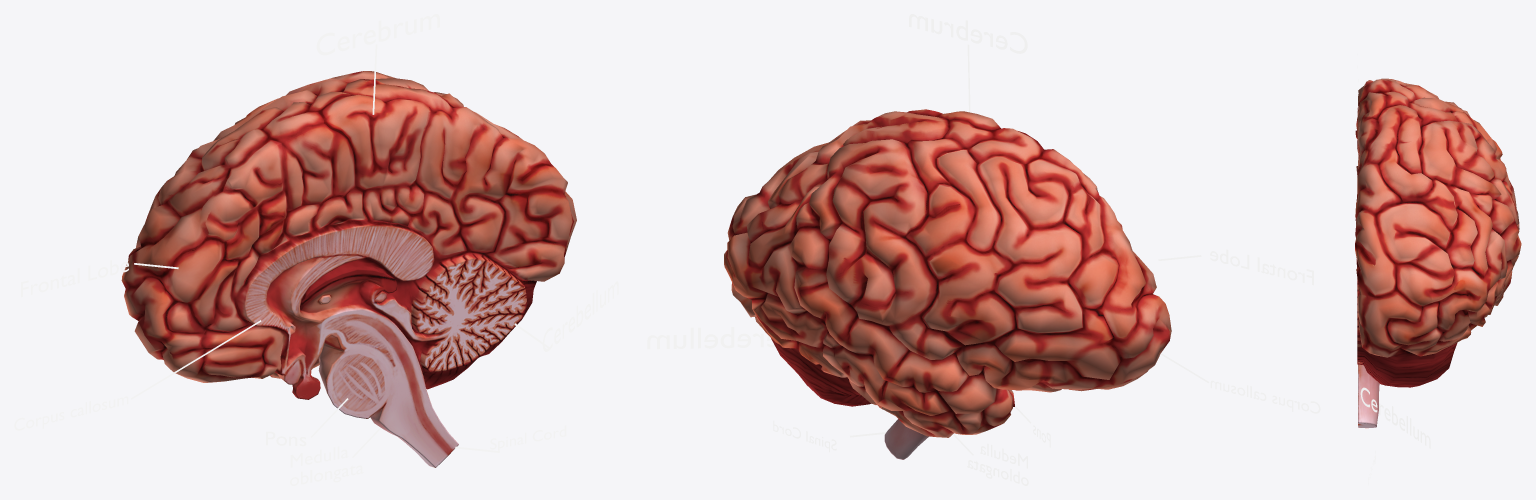
Rendered from brain_half_name.glb.
3 renders of one model, left to right at view 1: azimuth 30°, elevation 25°; view 2: azimuth 150°, elevation 25°; view 3: azimuth 270°, elevation 25°, orthographic. The views are drawn at different scales.
Parts seen in each view (by area): view 1: Brain.001, Text, Text.003, Text.001, Text.006; view 2: Brain.001, Text.001, Text; view 3: Brain.001, Text.001.
Boxes of the visible parts, bbox=[...] form: Brain.001: bbox=[121, 71, 576, 467]; Text: bbox=[316, 14, 439, 55]; Text.003: bbox=[290, 446, 363, 485]; Text.001: bbox=[542, 281, 618, 351]; Text.006: bbox=[21, 260, 128, 297]; Brain.001: bbox=[724, 109, 1171, 459]; Text.001: bbox=[647, 327, 775, 349]; Text: bbox=[909, 14, 1027, 53]; Brain.001: bbox=[1355, 78, 1521, 428]; Text.001: bbox=[1360, 387, 1430, 448].
Size of the model in its own units: 0.8043 by 0.5569 by 0.23.
Materials: 2 (1 with a texture image).
